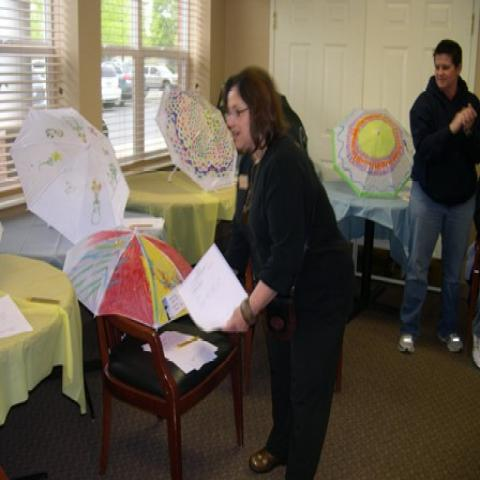car: (101, 62, 127, 106), (145, 66, 172, 88), (34, 62, 44, 69)
